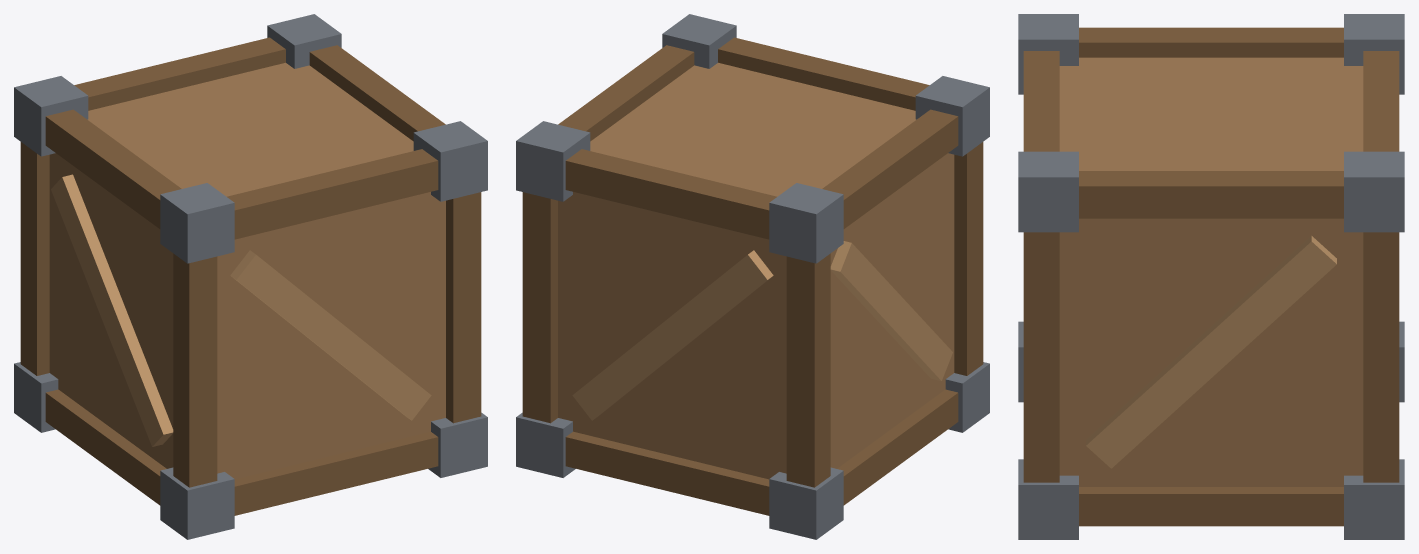
Rendered from prop_crate.glb.
3 renders of one model, left to right at view 1: azimuth 30°, elevation 25°; view 2: azimuth 150°, elevation 25°; view 3: azimuth 270°, elevation 25°, orthographic. The views are drawn at different scales.
Parts seen in each view (by area): view 1: Crate; view 2: Crate; view 3: Crate.
Part boxes in pixels (bbox=[...]): Crate: bbox=[14, 14, 487, 539]; Crate: bbox=[516, 14, 989, 539]; Crate: bbox=[1018, 14, 1404, 539].
Size of the model in its own units: 0.7 by 0.725 by 0.7.
